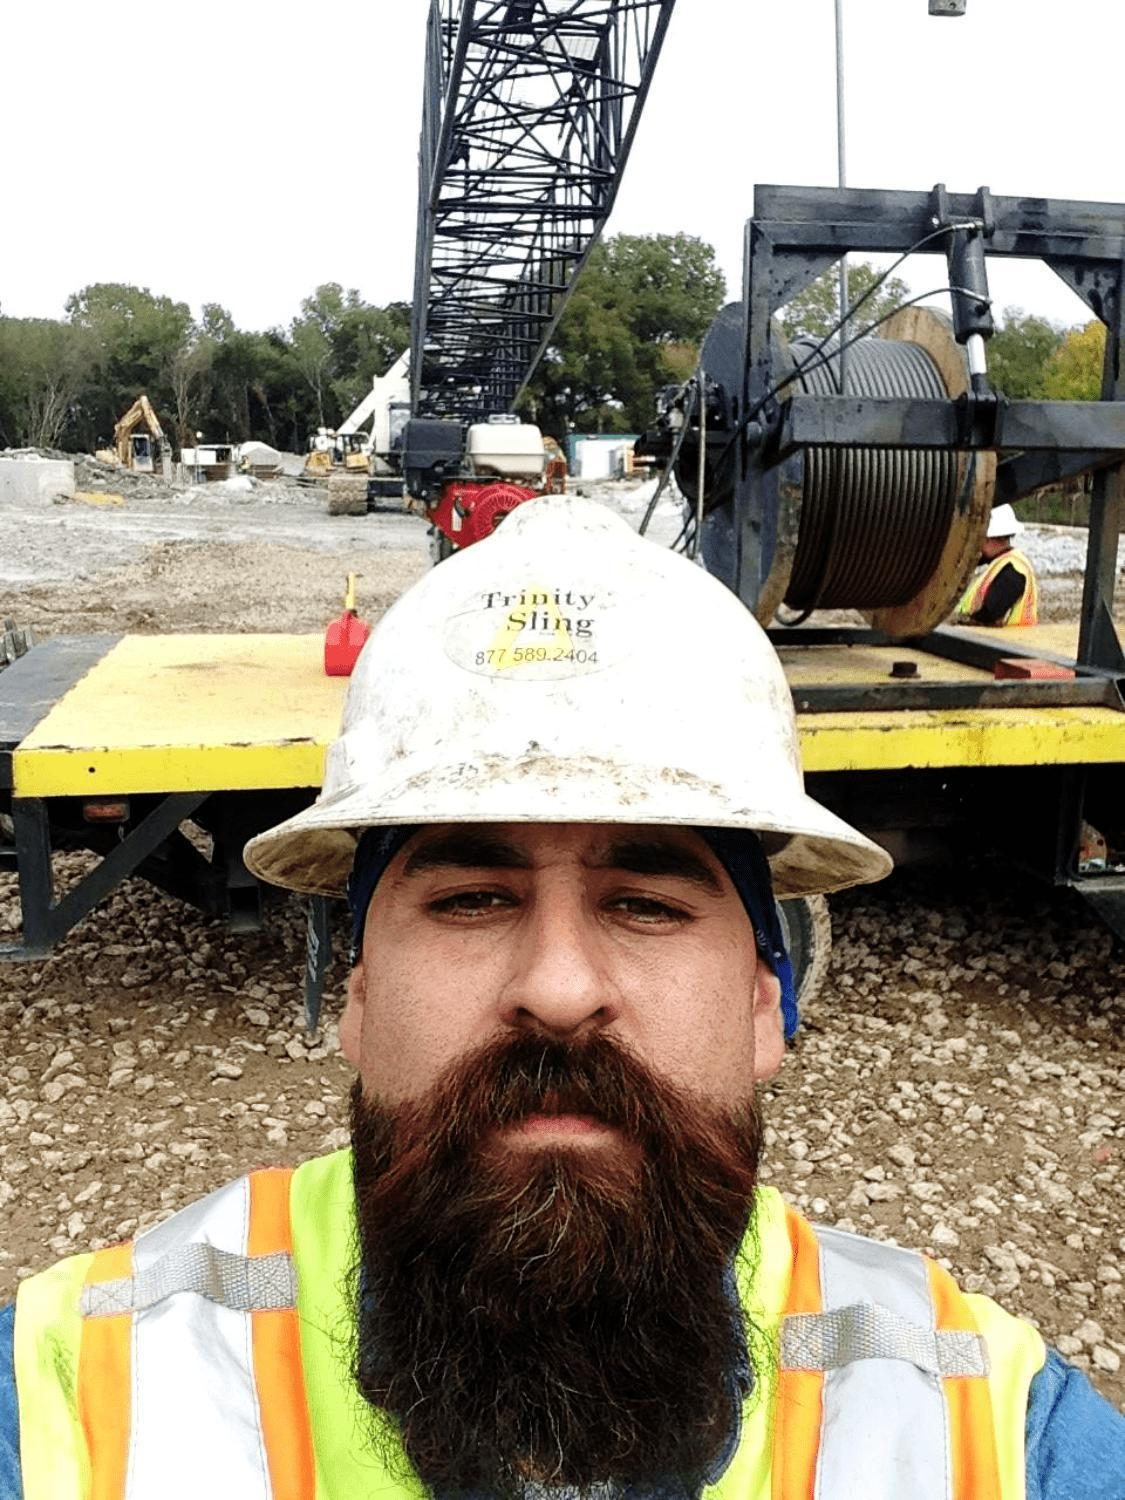helmet: (243, 490, 898, 909)
